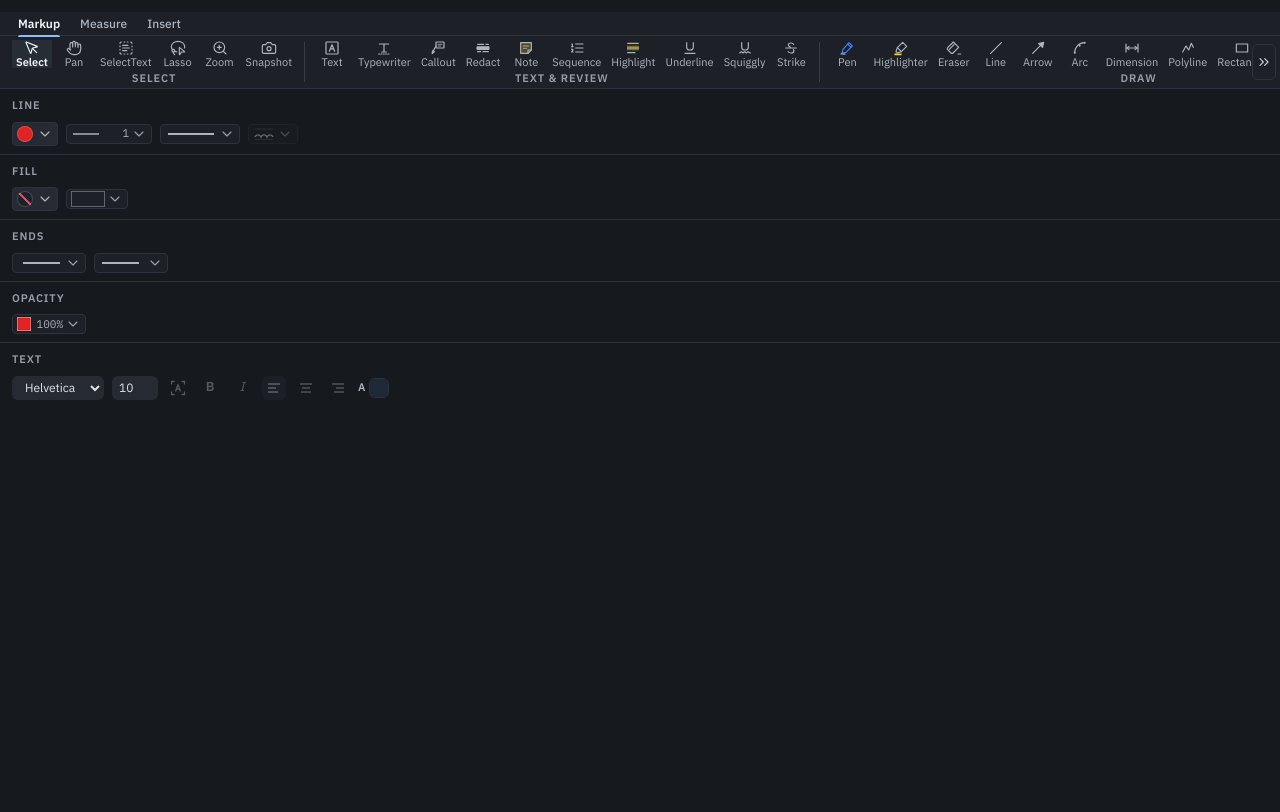
Test case: Tipos de línea en la barra de propiedades (ADR-0041) › la lista muestra marca, nombre y dibujo de cada tipo, con los patrones aparte, como en Revu
Click the button with test id "ribbon-line-style".
click(200, 134)  # box [160,124,240,144]
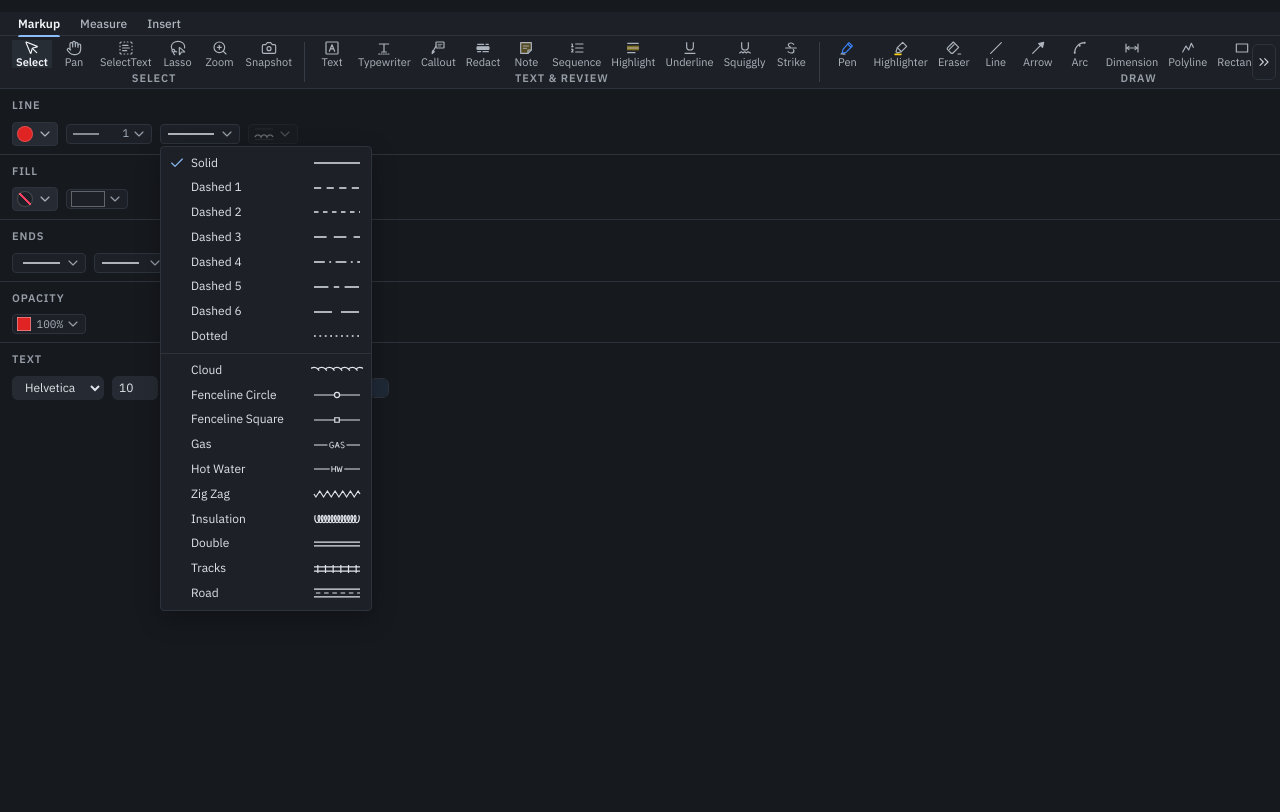
Result: the list with test id "ribbon-line-style-list" shows "Dashed 6" at [161,299,371,324]
Result: the option with test id "ribbon-line-style-option-road" reads "Road" at [161,581,371,606]
